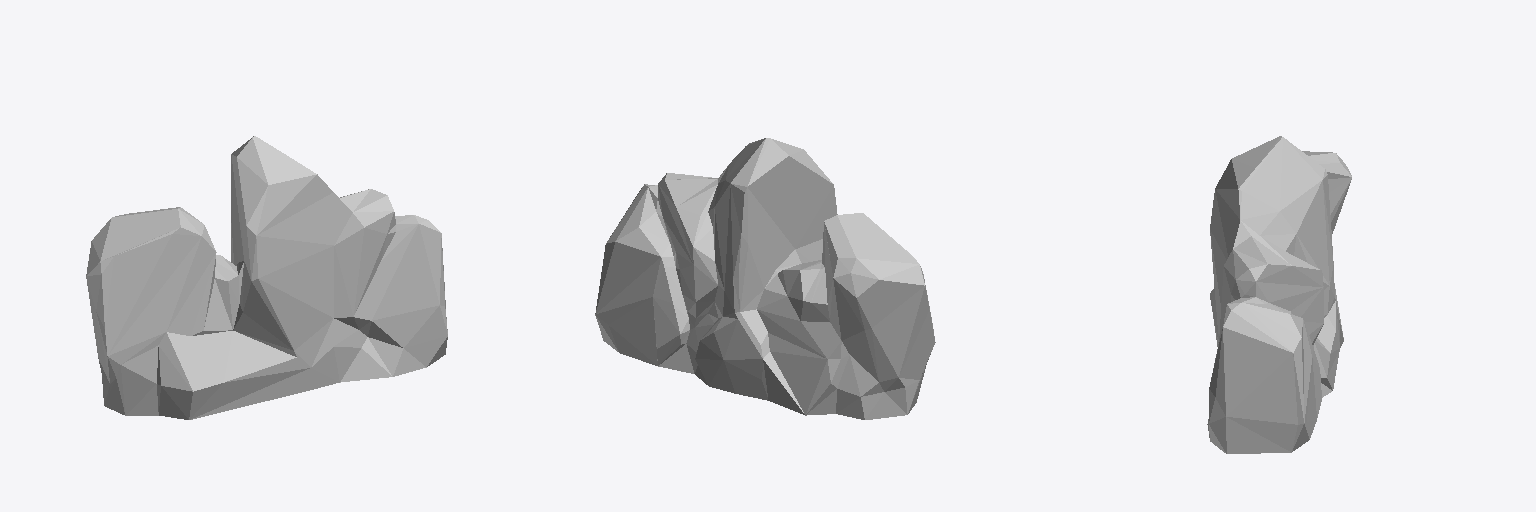
File: Rock_Formation.obj
The picture shows the model from 3 angles: view 1: azimuth 30°, elevation 25°; view 2: azimuth 150°, elevation 25°; view 3: azimuth 270°, elevation 25°; orthographic projection.
Visible parts, largest first — view 1: Rock_Formation; view 2: Rock_Formation; view 3: Rock_Formation.
Boxes of the visible parts, box(x1,y1,x2,y2) form: Rock_Formation: box(86, 136, 447, 419); Rock_Formation: box(595, 138, 935, 419); Rock_Formation: box(1207, 136, 1351, 453).
Bounding box in the file's own units: 29.86 × 20.83 × 11.48.